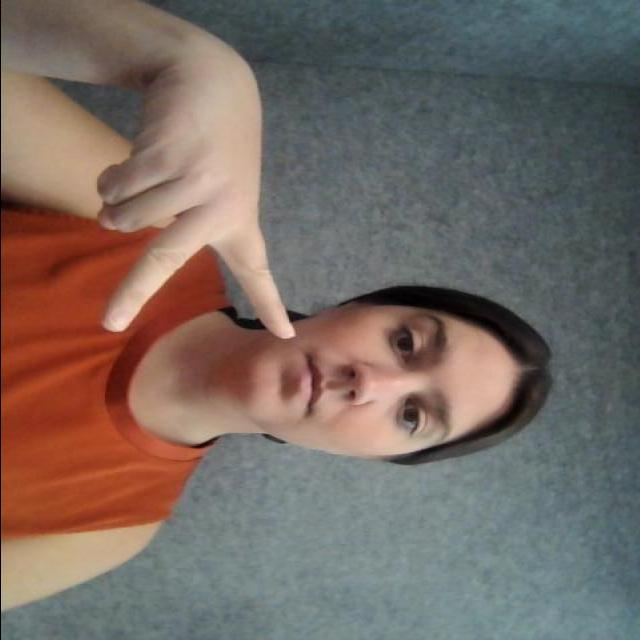Scissors: (34, 35, 302, 437)
